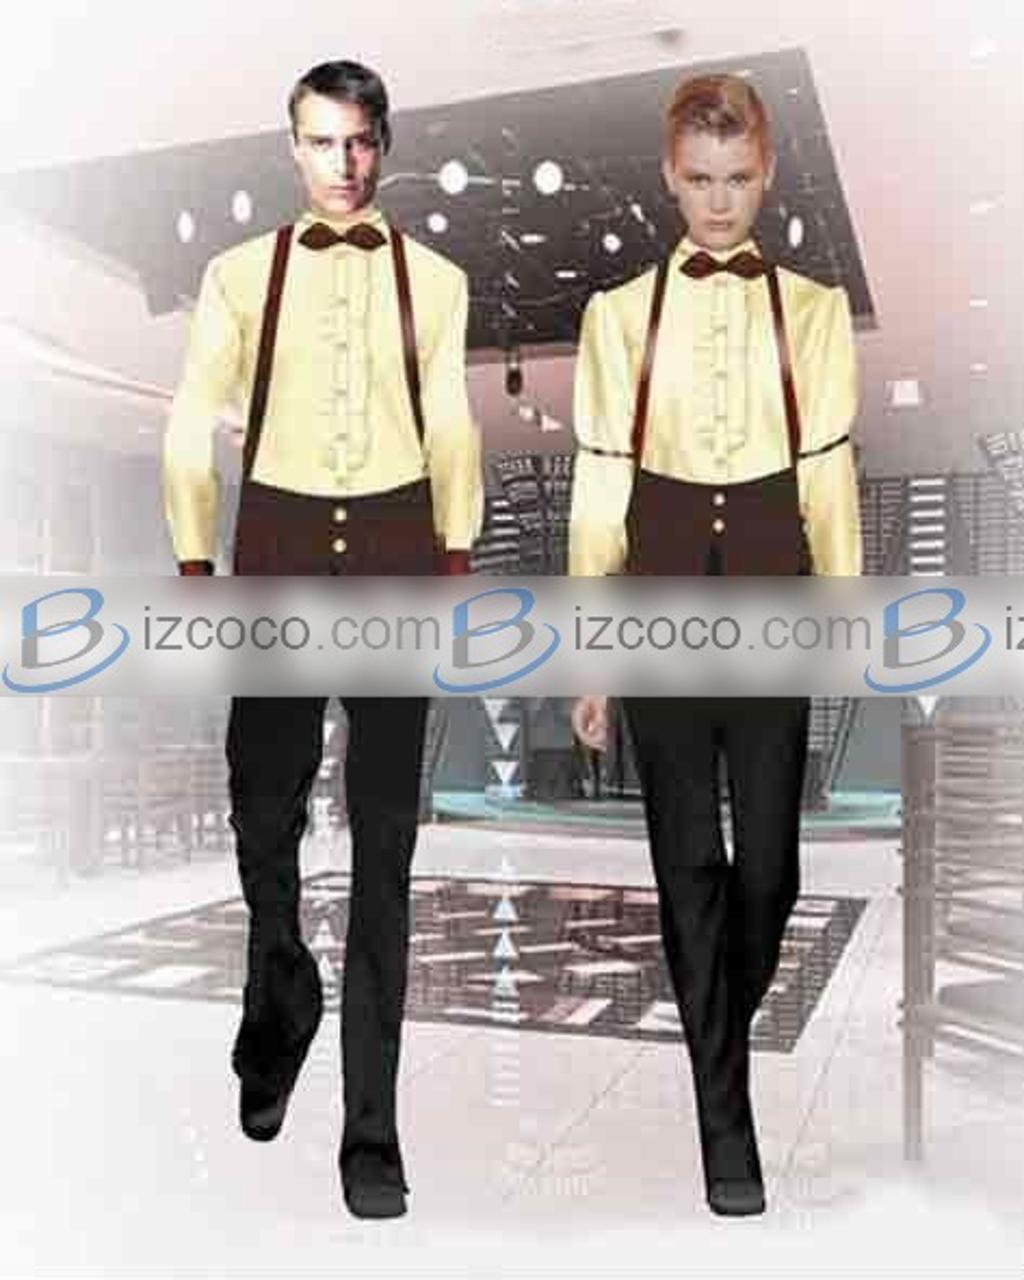face: (672, 122, 762, 249), (297, 97, 382, 209)
